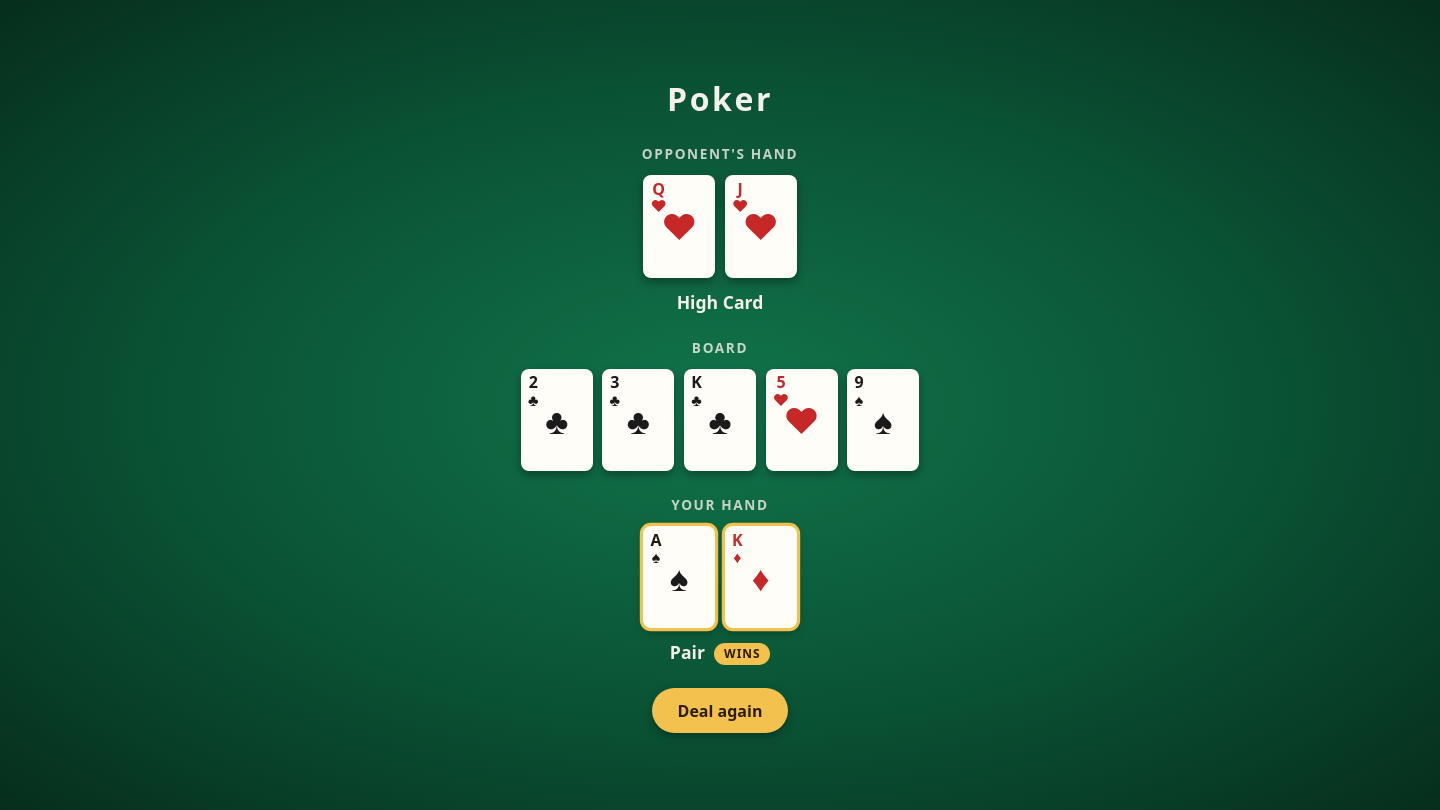
deals again when asked
This screenshot has width=1440, height=810.
What coordinates should you click on to do the following:
click the button "Deal again"
I would click on:
 (720, 711)
Its box is [652,688,788,733].
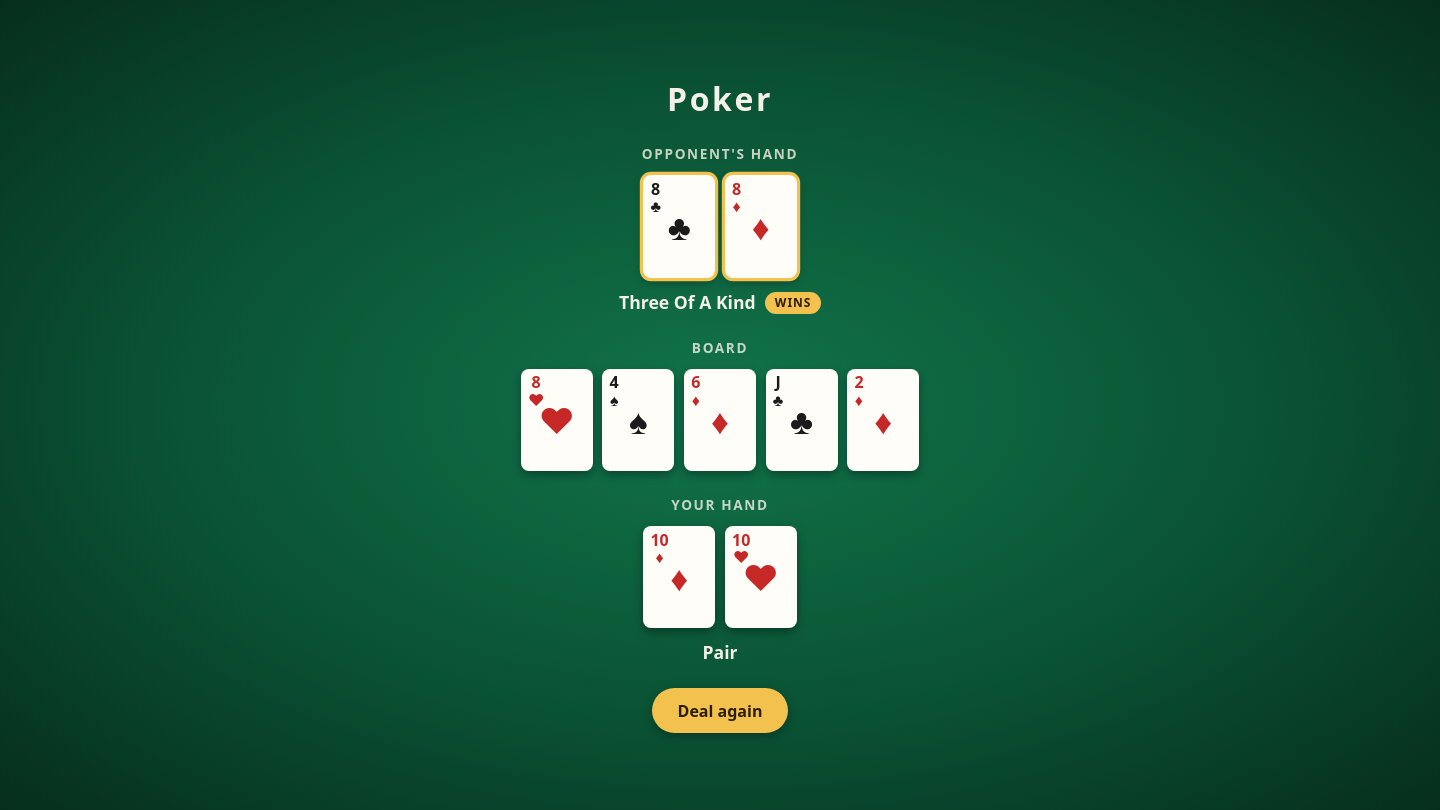
Expected: the text "Wins" is shown, [765,292,821,314]
Expected: the picture named "10 of diamonds" is shown, [643,526,715,628]
Expected: the text "Three Of A Kind" is shown, [619,290,756,314]
